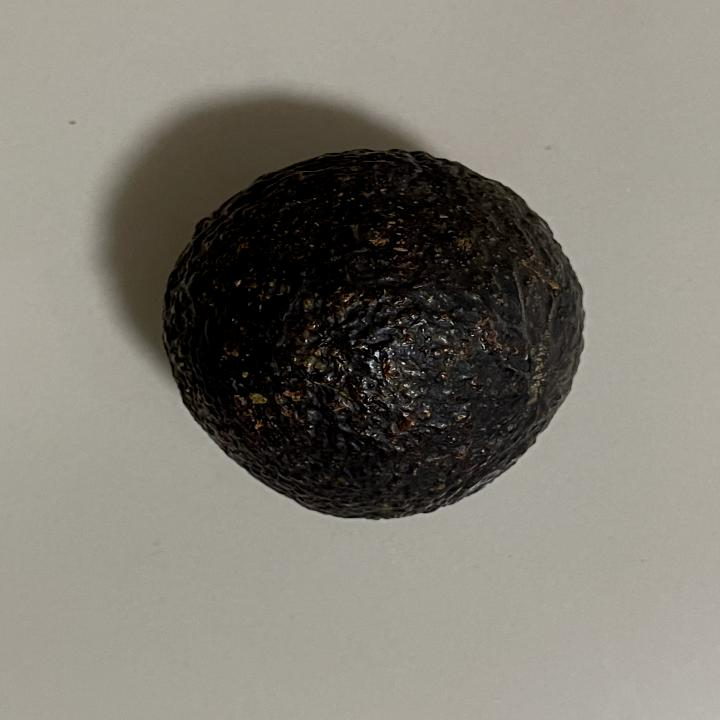Level2: (153, 142, 598, 530)
